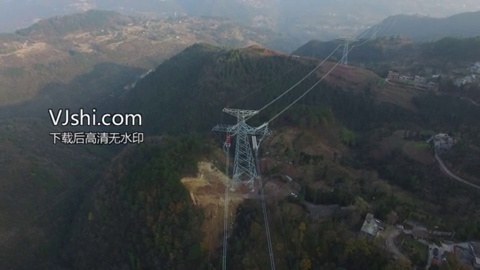tower_body: (213, 101, 269, 194)
tower_foot: (226, 170, 261, 191)
tower_head: (217, 104, 262, 120)
